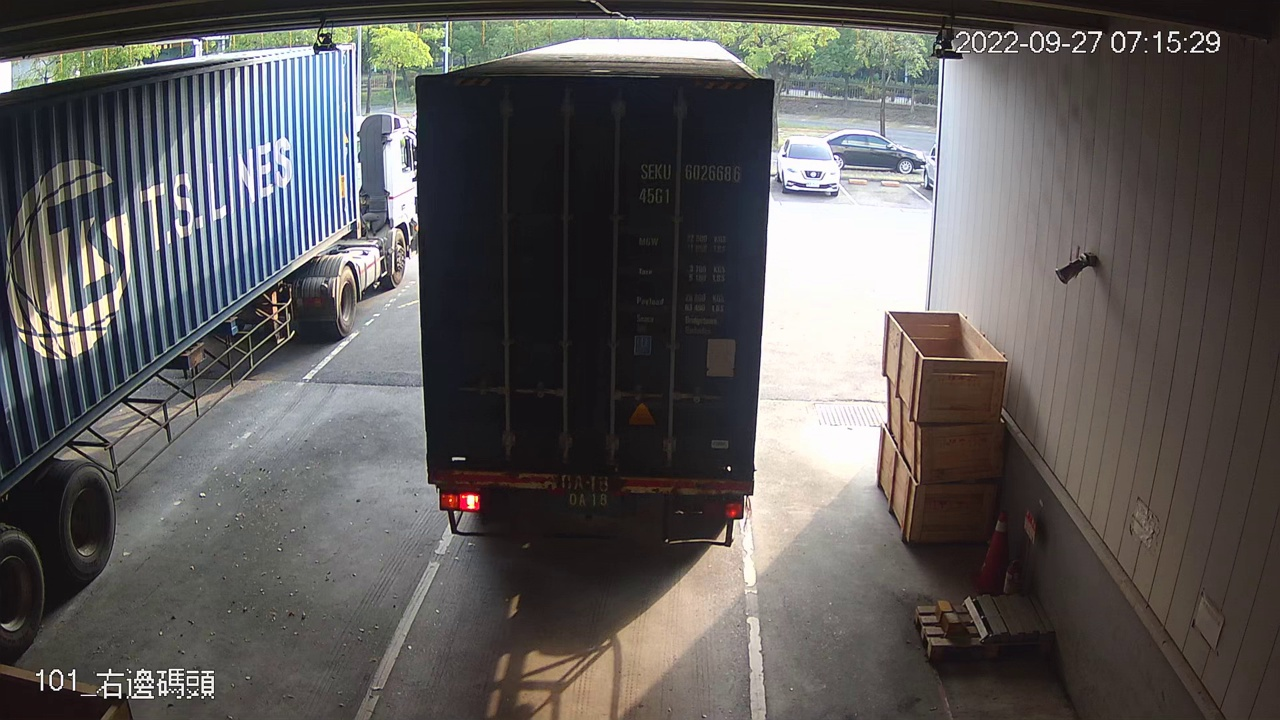container: (629, 153, 750, 212)
